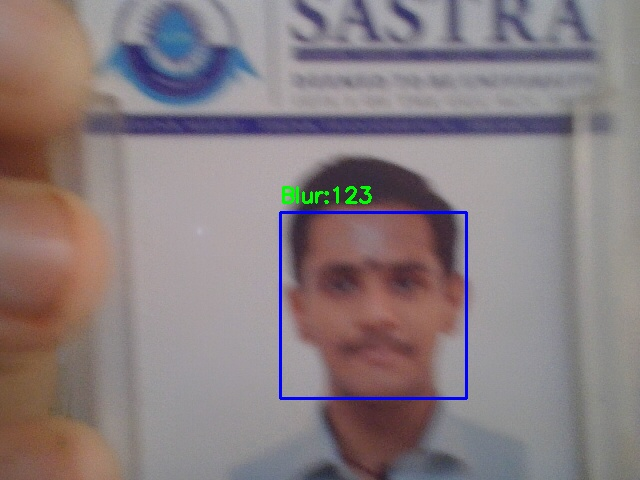fake: (280, 212, 466, 398)
